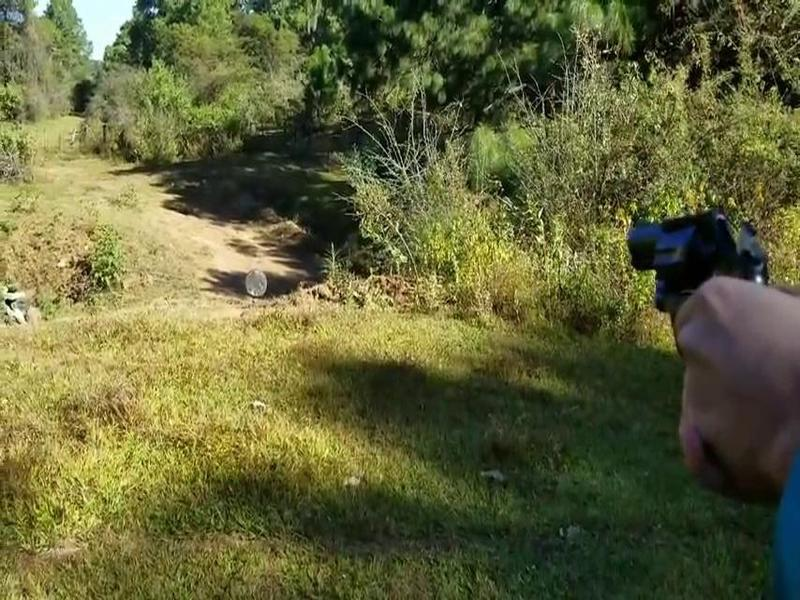Revolver: (616, 185, 776, 354)
